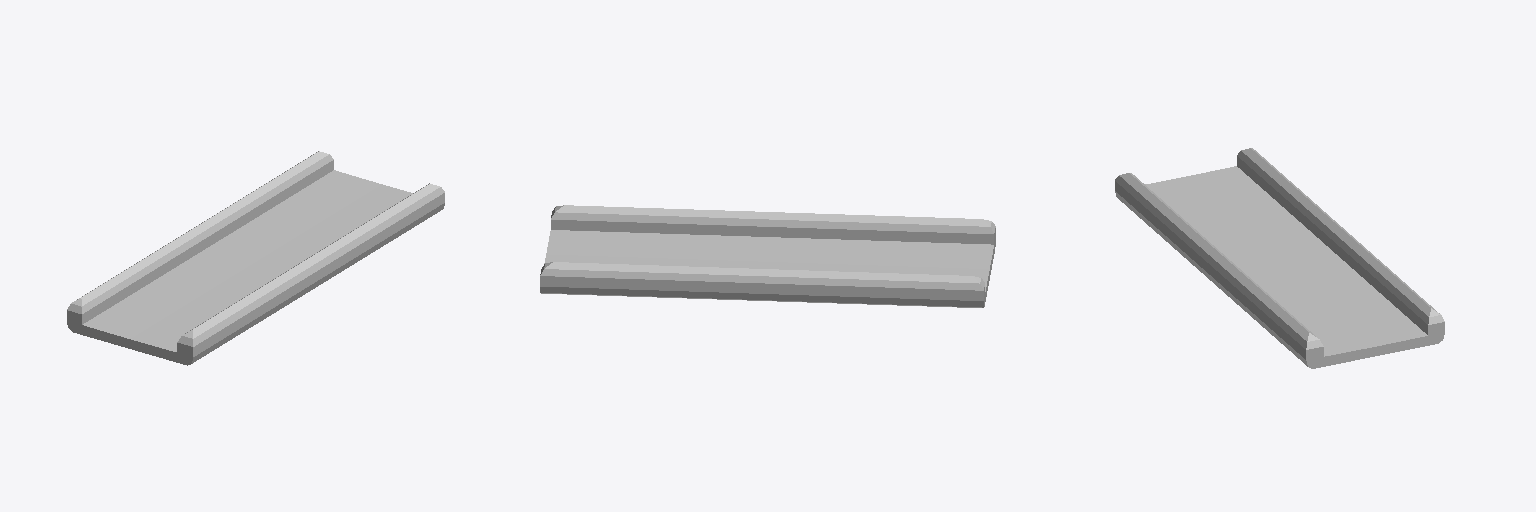
The model's file is Level2FirstBridge.obj.
3 renders of one model, left to right at view 1: azimuth 30°, elevation 25°; view 2: azimuth 150°, elevation 25°; view 3: azimuth 270°, elevation 25°, orthographic.
Visible parts, largest first — view 1: Level2FirstBridge_Plane.026; view 2: Level2FirstBridge_Plane.026; view 3: Level2FirstBridge_Plane.026.
Boxes of the visible parts, x1=… form: Level2FirstBridge_Plane.026: x1=67, y1=151, x2=444, y2=365; Level2FirstBridge_Plane.026: x1=540, y1=205, x2=995, y2=307; Level2FirstBridge_Plane.026: x1=1115, y1=148, x2=1444, y2=368.
Bounding box in the file's own units: 105 × 7.7 × 74.28.